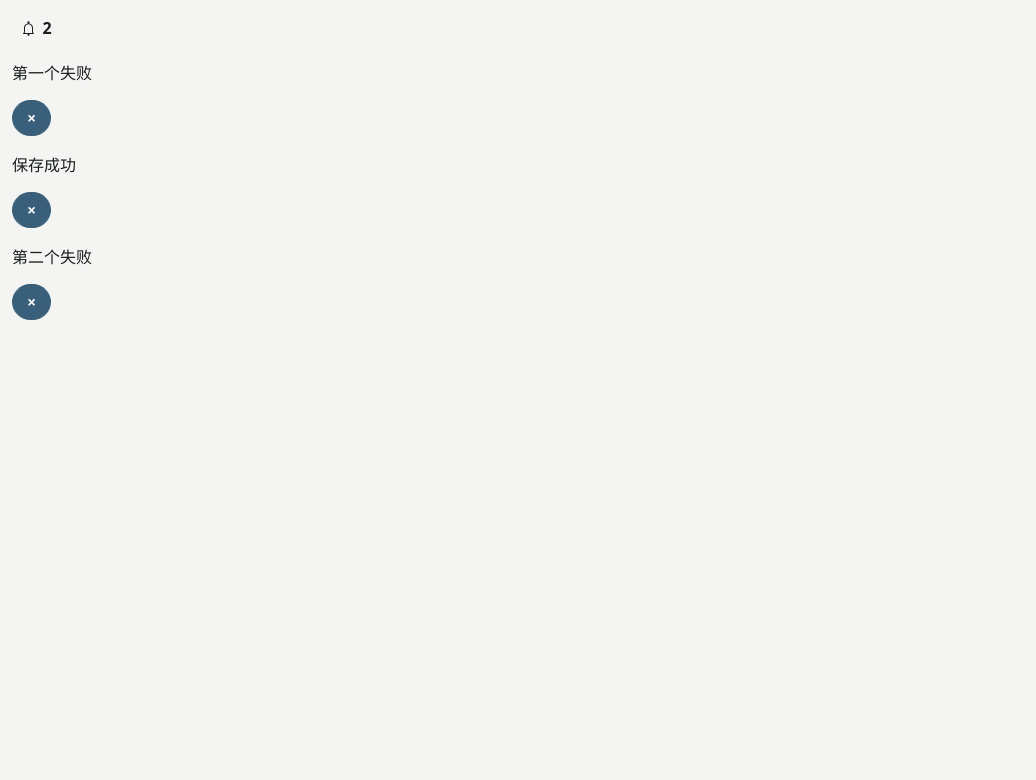
Test: NotificationInbox › badges a failure, lists it newest first, and marks it read on opening
Expected: the text with class "notification-inbox__badge" reads "2", [42,17,52,39]
Click the button with class "notification-inbox__bell".
click(36, 28)  # box [12,12,60,44]
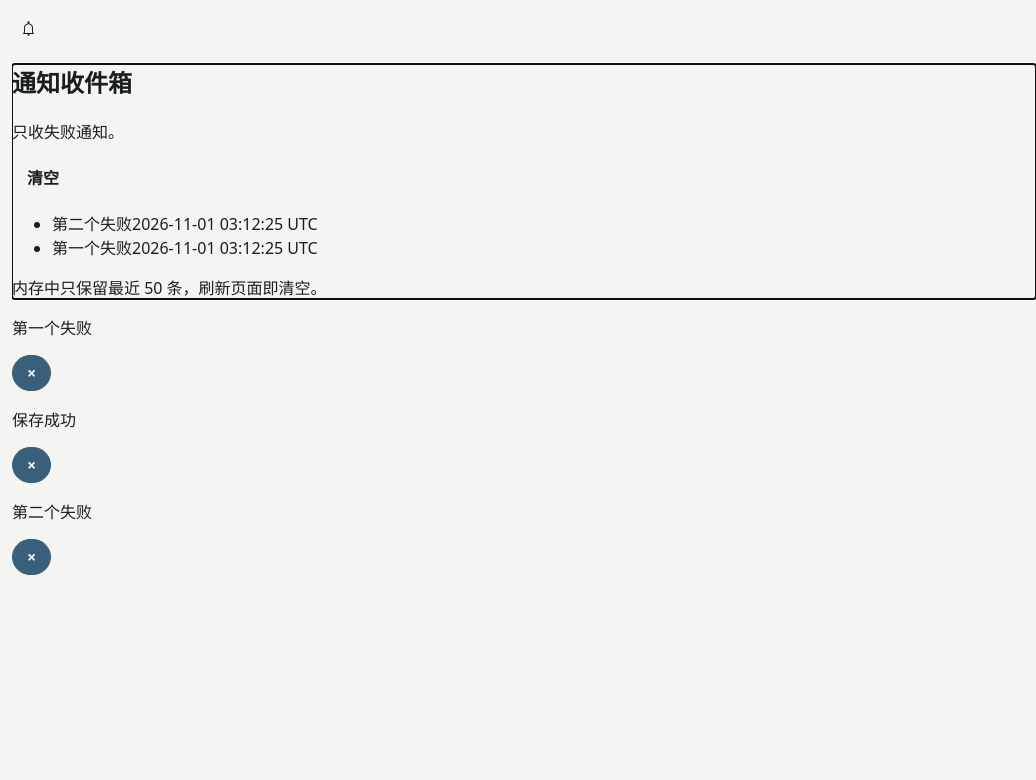
Expected: the text "保存成功" is not shown
Expected: the text with class "notification-inbox__badge" is gone
